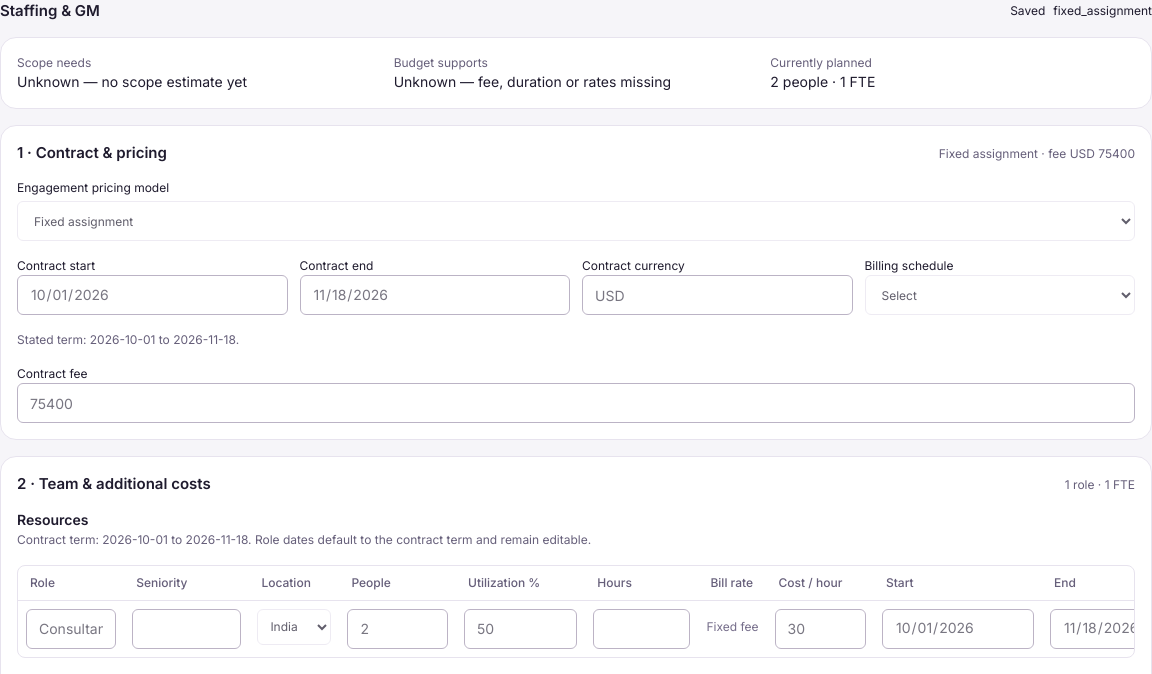
Test: Server-persisted commercial draft › a draft conflict stops auto-save loudly instead of overwriting
Replace the text in the field labelled "Contract fee" with "80000": coordinates (576, 403) [17, 383, 1135, 423]
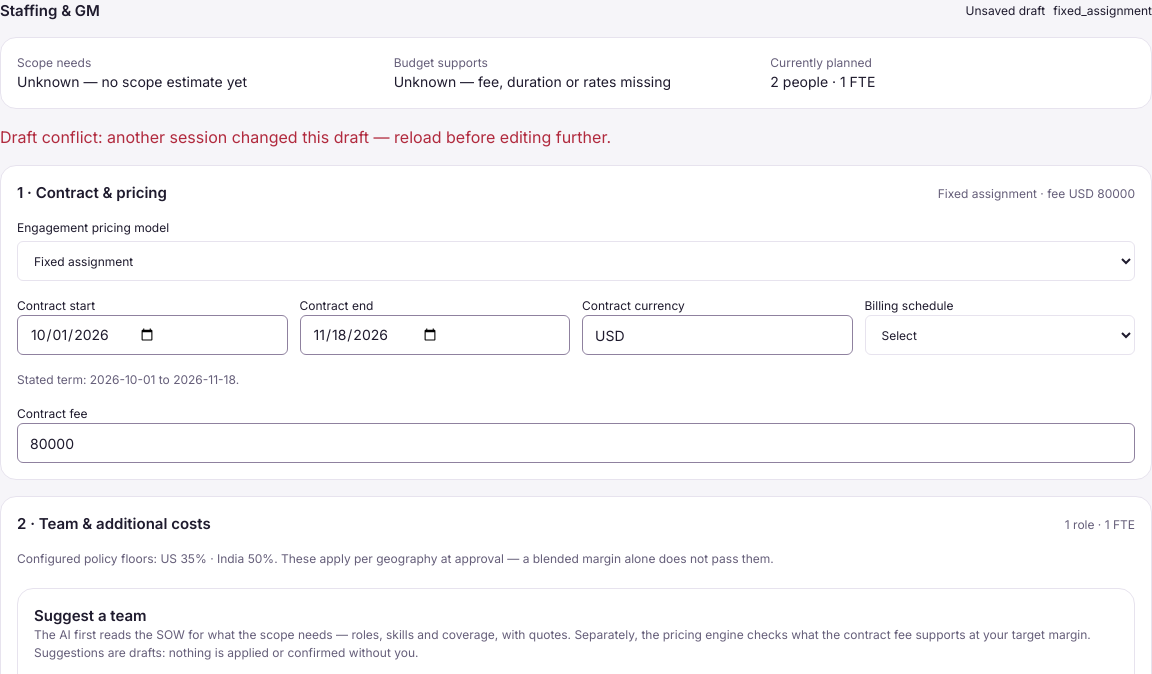
Expected: the message with test id "draft-error" shows "another session changed this draft", [0, 127, 611, 147]
